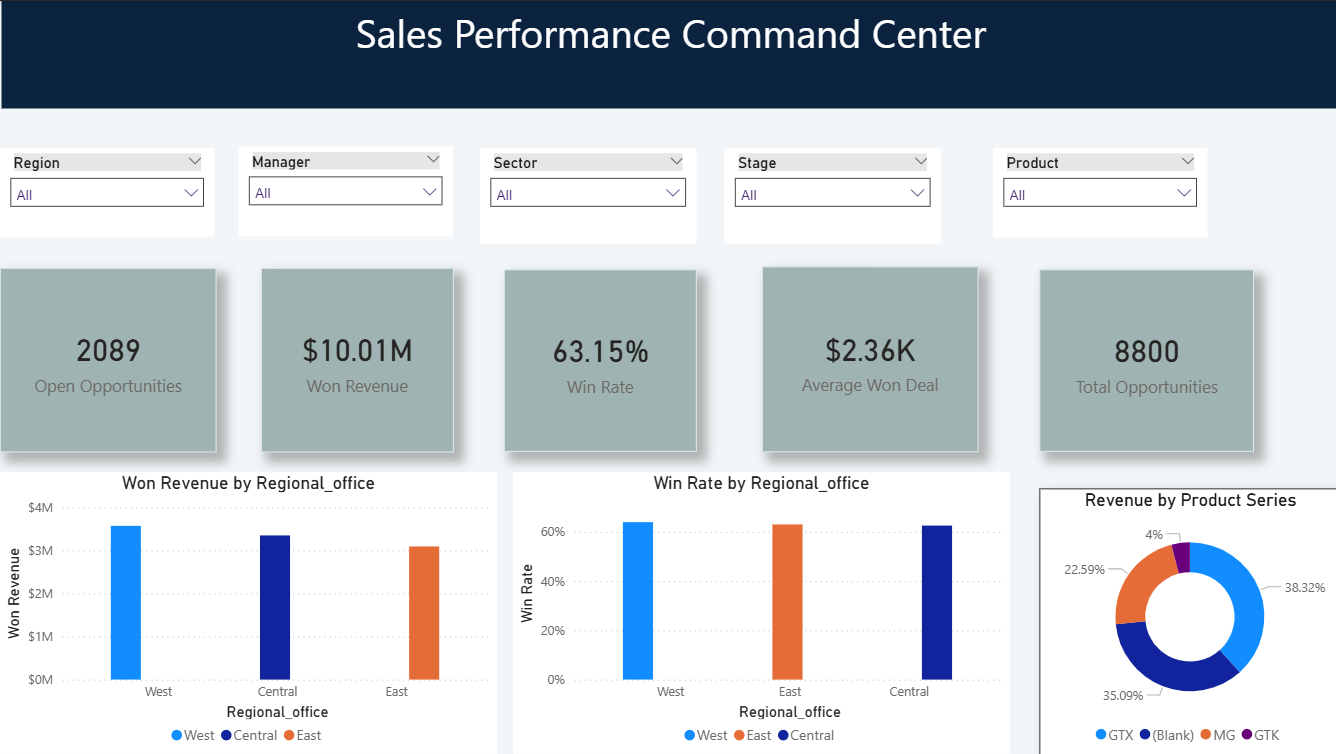

The page's visual inventory and layout, read from the dashboard file:
{"tool":"powerbi","page":{"name":"Page 1","canvas":[1280,720],"ordinal":0},"visuals":[{"type":"card","fields":{"Values":["Measure.Open Opportunities"]},"box":[0,255.4,206.6,175.7],"z":1000},{"type":"card","fields":{"Values":["Measure.Won Revenue"]},"box":[248.9,255.4,183.8,175.7],"z":2000},{"type":"card","fields":{"Values":["Measure.Win Rate"]},"box":[481.5,257,183.8,174],"z":3000},{"type":"card","fields":{"Values":["Measure.Average Won Deal"]},"box":[727.1,253.7,206.6,177.3],"z":3001},{"type":"card","fields":{"Values":["Measure.Total Opportunities"]},"box":[992.2,257,204.9,174],"z":3002},{"type":"slicer","fields":{"Values":["sales_teams.Manager"]},"box":[227.7,138.3,204.9,86.2],"z":3004},{"type":"slicer","fields":{"Values":["accounts.sector"]},"box":[458.7,139.9,206.6,91.1],"z":3005},{"type":"slicer","fields":{"Values":["sales_pipeline.deal_stage"]},"box":[691.3,139.9,206.6,91.1],"z":3006},{"type":"slicer","fields":{"Values":["products.product"]},"box":[948.3,139.9,204.9,84.6],"z":3007},{"type":"donutChart","title":"Revenue by Product Series","fields":{"Y":["Measure.Won Revenue"],"Category":["products.series"]},"box":[992.1,464.9,287.2,255.1],"z":3008},{"type":"clusteredColumnChart","title":"Won Revenue by Regional_office","fields":{"Category":["sales_teams.Regional_office"],"Y":["Measure.Won Revenue"],"Series":["sales_teams.Regional_office"]},"box":[0,449.8,474.3,270.2],"z":3009},{"type":"clusteredColumnChart","title":"Win Rate by Regional_office","fields":{"Category":["sales_teams.Regional_office"],"Series":["sales_teams.Regional_office"],"Y":["Measure.Win Rate"]},"box":[489.5,449.8,474.3,270.2],"z":3010},{"type":"slicer","fields":{"Values":["sales_teams.Regional_office","sales_teams.Manager"]},"box":[0,139.9,204.9,84.6],"z":3011},{"type":"textbox","box":[1.6,0,1278.5,102.5],"z":3012}]}

Visuals, with their boxes in screenshot pixels (x1, y1, x2, y2), scaled from the page's 1280x720 canvas onto the 1336x754 screenshot:
card - Measure.Open Opportunities: <bbox>0, 267, 216, 451</bbox>
card - Measure.Won Revenue: <bbox>260, 267, 452, 451</bbox>
card - Measure.Win Rate: <bbox>503, 269, 694, 451</bbox>
card - Measure.Average Won Deal: <bbox>759, 266, 975, 451</bbox>
card - Measure.Total Opportunities: <bbox>1036, 269, 1249, 451</bbox>
slicer - sales_teams.Manager: <bbox>238, 145, 452, 235</bbox>
slicer - accounts.sector: <bbox>479, 147, 694, 242</bbox>
slicer - sales_pipeline.deal_stage: <bbox>722, 147, 937, 242</bbox>
slicer - products.product: <bbox>990, 147, 1204, 235</bbox>
"Revenue by Product Series" donutChart: <bbox>1036, 487, 1335, 753</bbox>
"Won Revenue by Regional_office" clusteredColumnChart: <bbox>0, 471, 495, 753</bbox>
"Win Rate by Regional_office" clusteredColumnChart: <bbox>511, 471, 1006, 753</bbox>
slicer - sales_teams.Regional_office x sales_teams.Manager: <bbox>0, 147, 214, 235</bbox>
textbox: <bbox>2, 0, 1335, 107</bbox>
